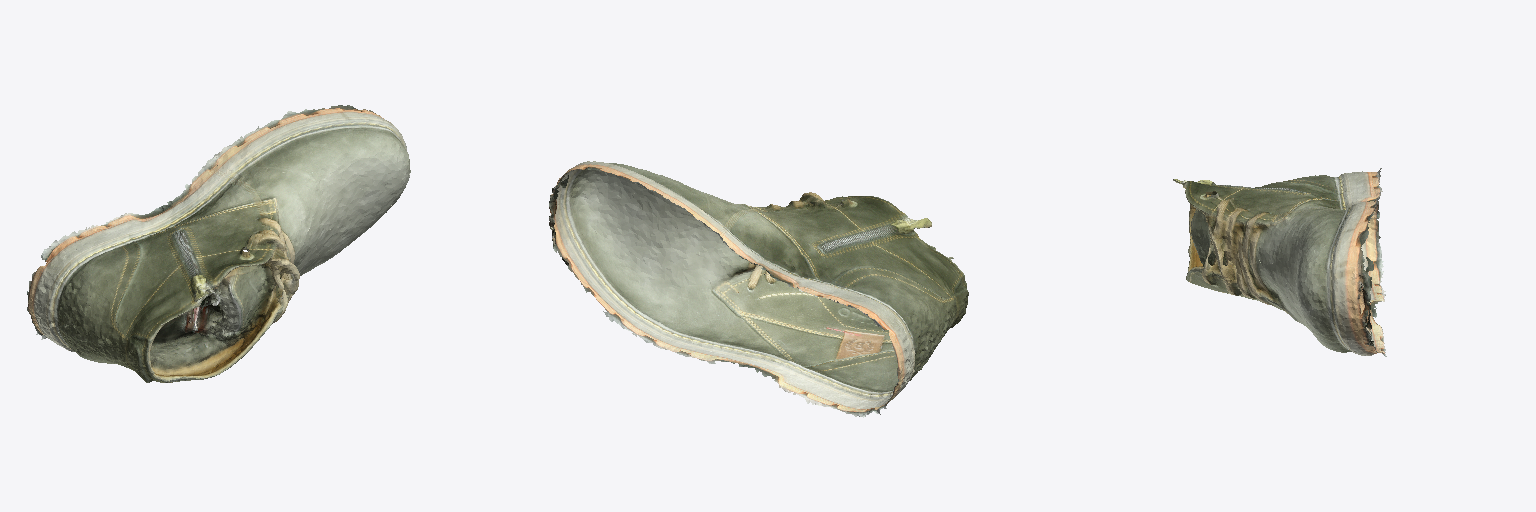
The picture shows the model from 3 angles: view 1: azimuth 30°, elevation 25°; view 2: azimuth 150°, elevation 25°; view 3: azimuth 270°, elevation 25°; orthographic projection.
Bounding box in the file's own units: 0.8656 × 0.4108 × 0.4437.
Materials: 3 (3 with a texture image).